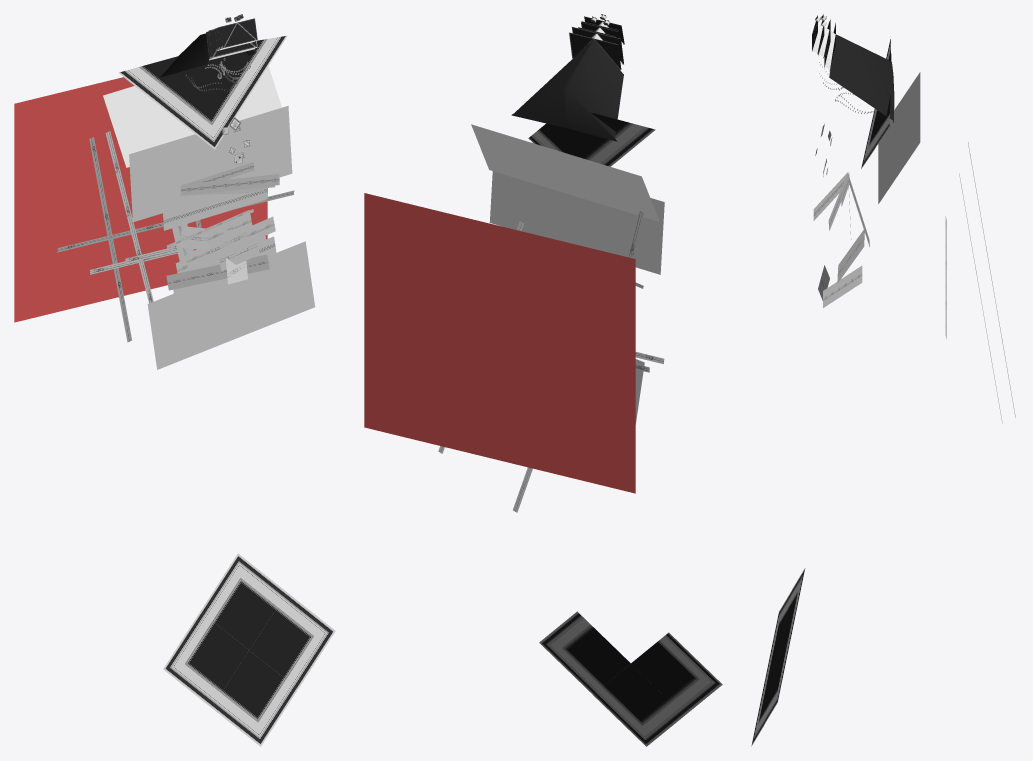
3 views of the same model, side by side, from view 1: azimuth 30°, elevation 25°; view 2: azimuth 150°, elevation 25°; view 3: azimuth 270°, elevation 25° (orthographic). The views are drawn at different scales.
Parts seen in each view (by area): view 1: salmone, bianco.1, bianco, bordo_01.1 (×2), bordo_01 (×2), bordo_01.3 (×2), bianco.2, bordo_01.2, nero, topgrande2, cinturone; view 2: salmone, bianco, bianco.2, nero, bordo_01.1 (×2), bordo_01 (×2), bordo_01.3, topgrande2.5; view 3: nero, bianco.2, bordo_01.1 (×2), bordo_01.2, bordo_01.3, bordo_01.
Part boxes in pixels (x1,y1,x2,y2): salmone: (14,77,267,322); bianco.1: (147,241,315,369); bianco: (129,105,292,222); bordo_01.1 (×2): (165,59,297,746); bordo_01 (×2): (118,56,248,707); bordo_01.3 (×2): (212,35,335,688); bianco.2: (103,66,281,167); bordo_01.2: (200,553,286,649); nero: (160,33,255,77); topgrande2: (220,18,257,48); cinturone: (223,226,246,255); salmone: (364,193,635,493); bianco: (489,171,664,274); bianco.2: (471,124,659,221); nero: (511,39,623,141); bordo_01.1 (×2): (528,123,684,746); bordo_01 (×2): (590,112,722,715); bordo_01.3: (539,611,630,694); topgrande2.5: (569,32,621,70); nero: (829,34,894,122); bianco.2: (878,72,920,203); bordo_01.1 (×2): (751,108,882,746); bordo_01.2: (778,568,805,656); bordo_01.3: (764,636,791,723); bordo_01: (765,590,791,678).
Bounding box in the file's own units: 2212 × 5878 × 1939.
22 materials, 19 textured.
